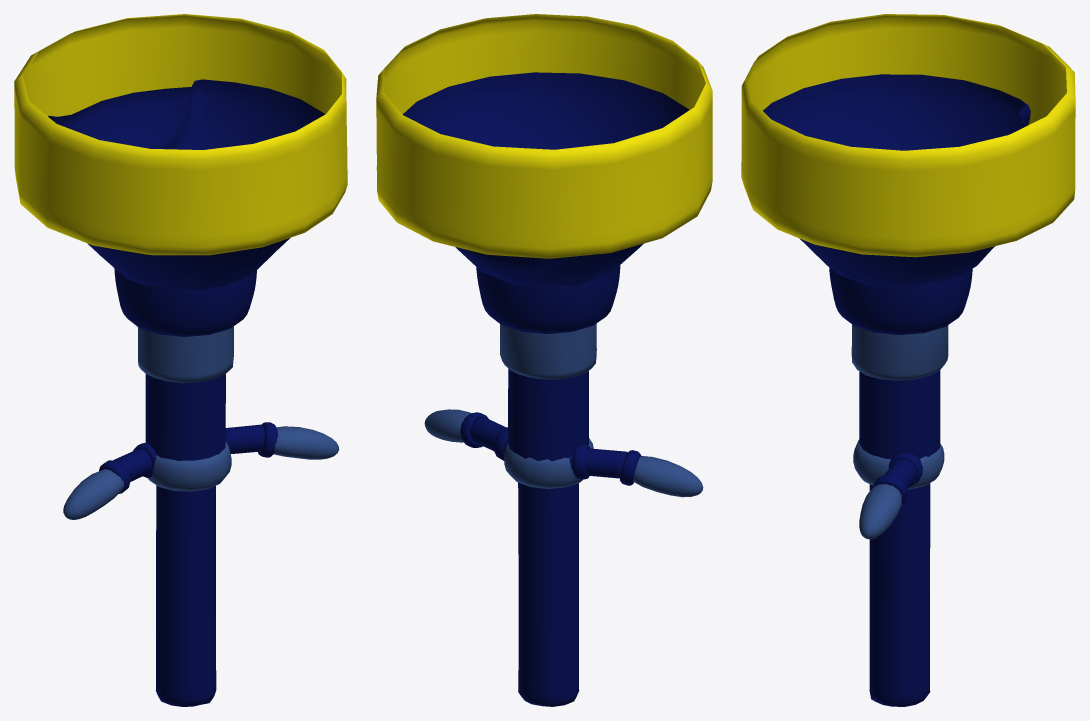
Rendered from Vso_Station_Cannon_BODY.fbx.
3 renders of one model, left to right at view 1: azimuth 30°, elevation 25°; view 2: azimuth 150°, elevation 25°; view 3: azimuth 270°, elevation 25°, orthographic.
Parts seen in each view (by area): view 1: Station_Cannon_BODY; view 2: Station_Cannon_BODY; view 3: Station_Cannon_BODY.
Part boxes in pixels (x1,y1,x2,y2): Station_Cannon_BODY: (14, 14, 347, 706); Station_Cannon_BODY: (376, 14, 712, 706); Station_Cannon_BODY: (741, 14, 1075, 706).
Bounding box in the file's own units: 0.4374 × 0.8833 × 0.4355.
